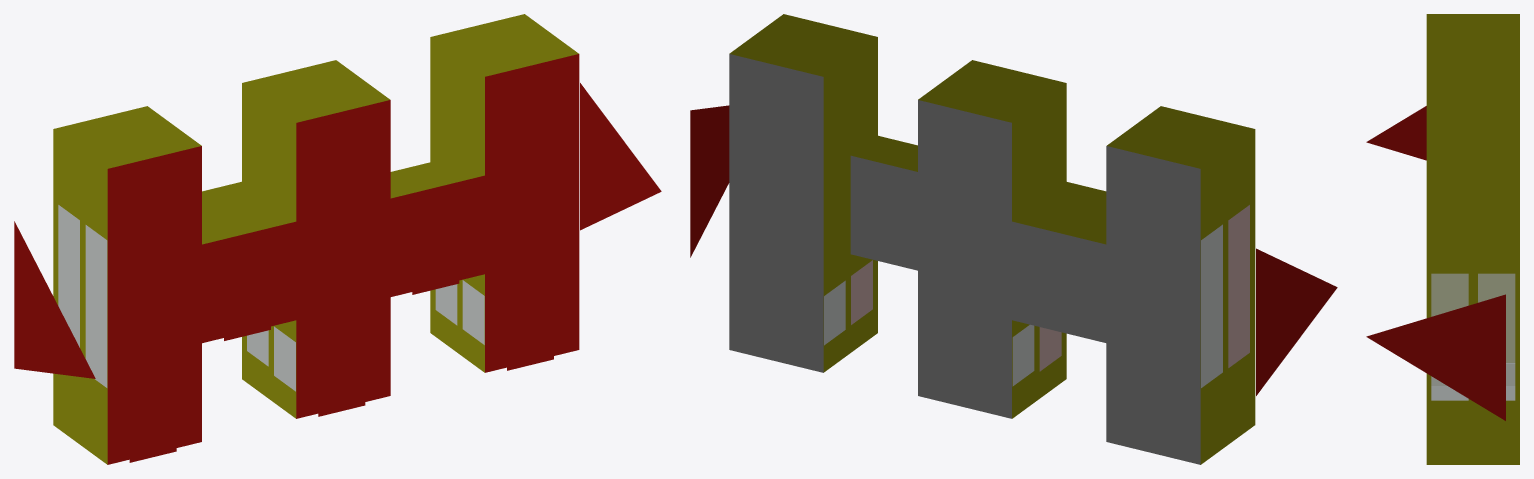
File: idf.obj
3 renders of one model, left to right at view 1: azimuth 30°, elevation 25°; view 2: azimuth 150°, elevation 25°; view 3: azimuth 270°, elevation 25°, orthographic. The views are drawn at different scales.
Size of the model in its own units: 36.58 by 18.59 by 10.06.
